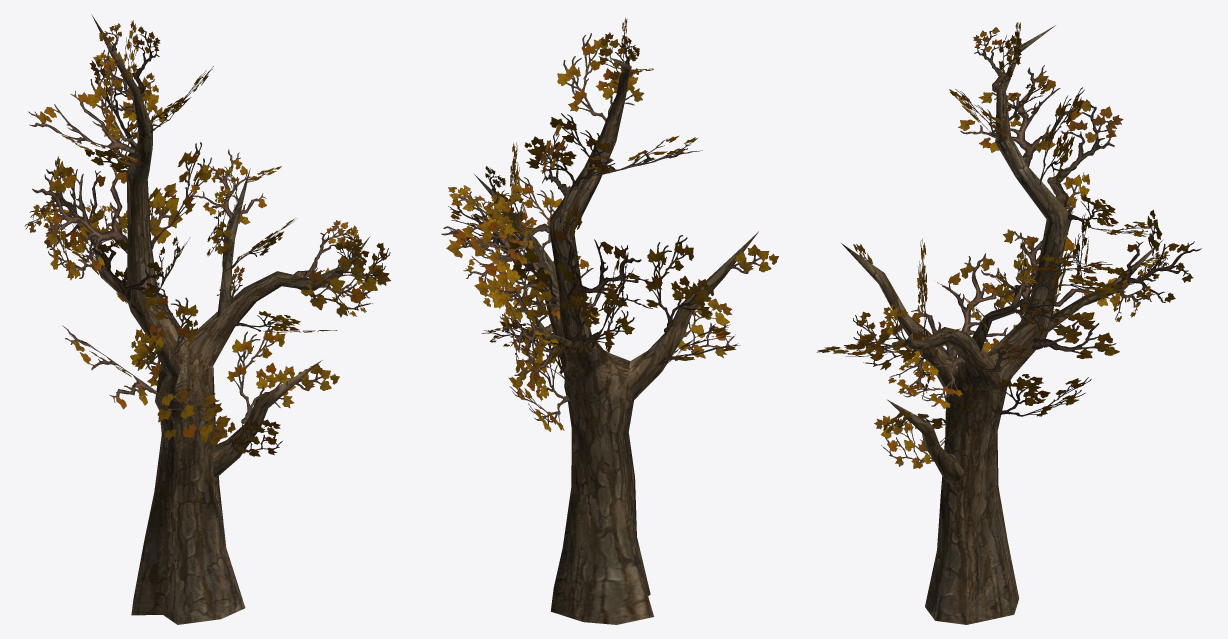
File: kqzd_shu_3.FBX
The picture shows the model from 3 angles, left to right: view 1: azimuth 30°, elevation 25°; view 2: azimuth 150°, elevation 25°; view 3: azimuth 270°, elevation 25°; orthographic projection. The views are drawn at different scales.
Parts seen in each view (by area): view 1: kqzd_shuye_3, kqzd_shu_3; view 2: kqzd_shuye_3, kqzd_shu_3; view 3: kqzd_shuye_3, kqzd_shu_3.
Part boxes in pixels (bbox=[...]): kqzd_shuye_3: bbox=[24, 20, 390, 456]; kqzd_shu_3: bbox=[55, 14, 370, 624]; kqzd_shuye_3: bbox=[441, 17, 778, 431]; kqzd_shu_3: bbox=[471, 57, 758, 624]; kqzd_shuye_3: bbox=[816, 22, 1201, 468]; kqzd_shu_3: bbox=[841, 25, 1163, 624].
Size of the model in its own units: 250 by 291 by 450.
